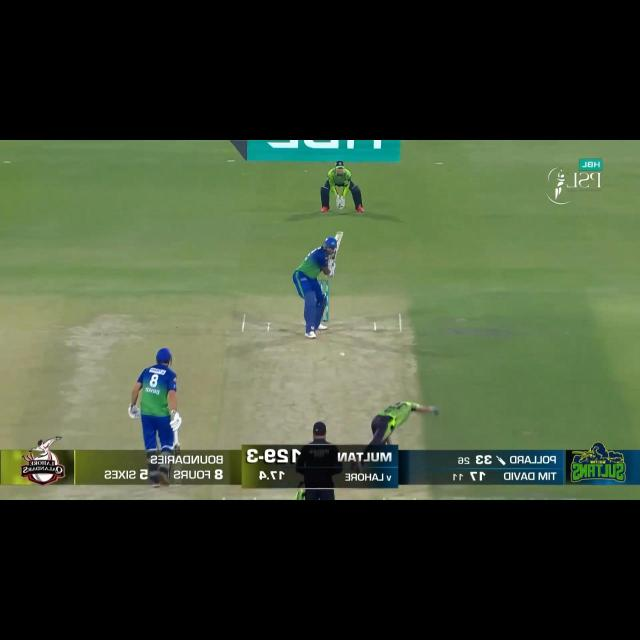bat: (328, 228, 346, 267), (168, 442, 186, 451)
toe: (334, 231, 346, 244)
